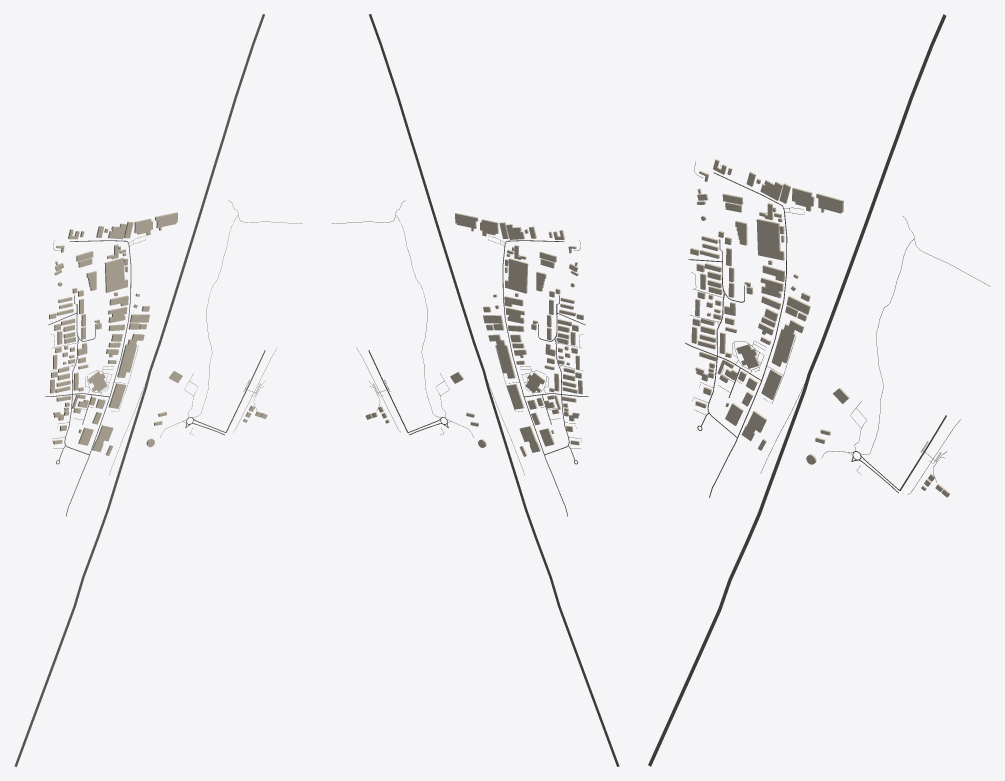
File: historic-palestine-06_25_3479_3198.glb
The picture shows the model from 3 angles, left to right: view 1: azimuth 30°, elevation 25°; view 2: azimuth 150°, elevation 25°; view 3: azimuth 330°, elevation 25°; orthographic projection. The views are drawn at different scales.
Visible parts, largest first — view 1: Road 4, Building_.054, Building_.037; view 2: Road 4, Building_.054, Building_.037; view 3: Road 4, Building_.054, Building_.037.
Part boxes in pixels (x1=…): Road 4: x1=14, y1=14, x2=264, y2=766; Building_.054: x1=104, y1=257, x2=127, y2=292; Building_.037: x1=117, y1=333, x2=144, y2=377; Road 4: x1=369, y1=14, x2=619, y2=766; Building_.054: x1=505, y1=258, x2=528, y2=293; Building_.037: x1=488, y1=334, x2=515, y2=378; Road 4: x1=648, y1=14, x2=946, y2=766; Building_.054: x1=756, y1=219, x2=784, y2=260; Building_.037: x1=771, y1=319, x2=804, y2=366.
Size of the model in its own units: 1295 by 2975 by 8.7.
